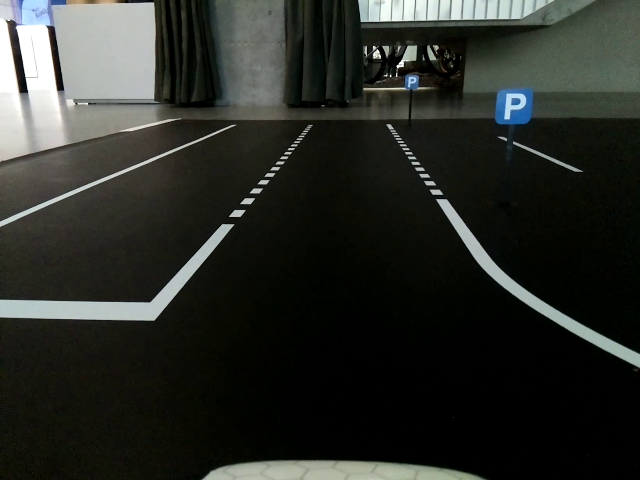park: (496, 89, 533, 124), (404, 73, 420, 89)
